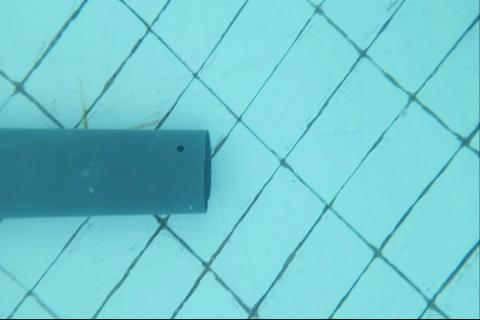kebocoran: (175, 144, 184, 153)
